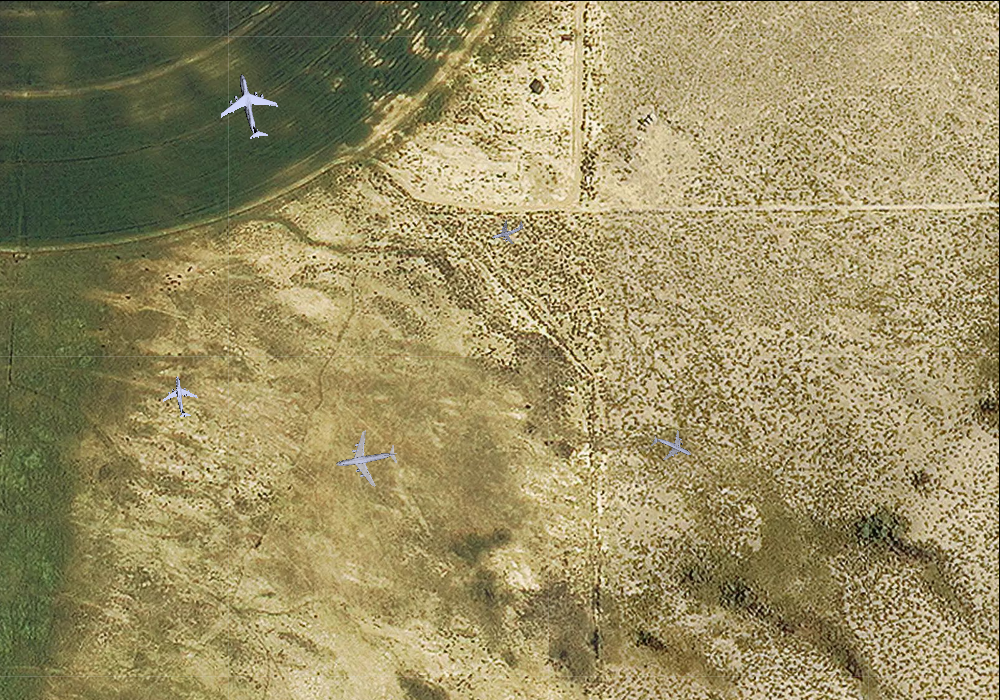plane: (212, 67, 287, 145), (330, 425, 401, 492), (645, 421, 699, 473), (158, 373, 202, 419), (487, 212, 528, 250)
